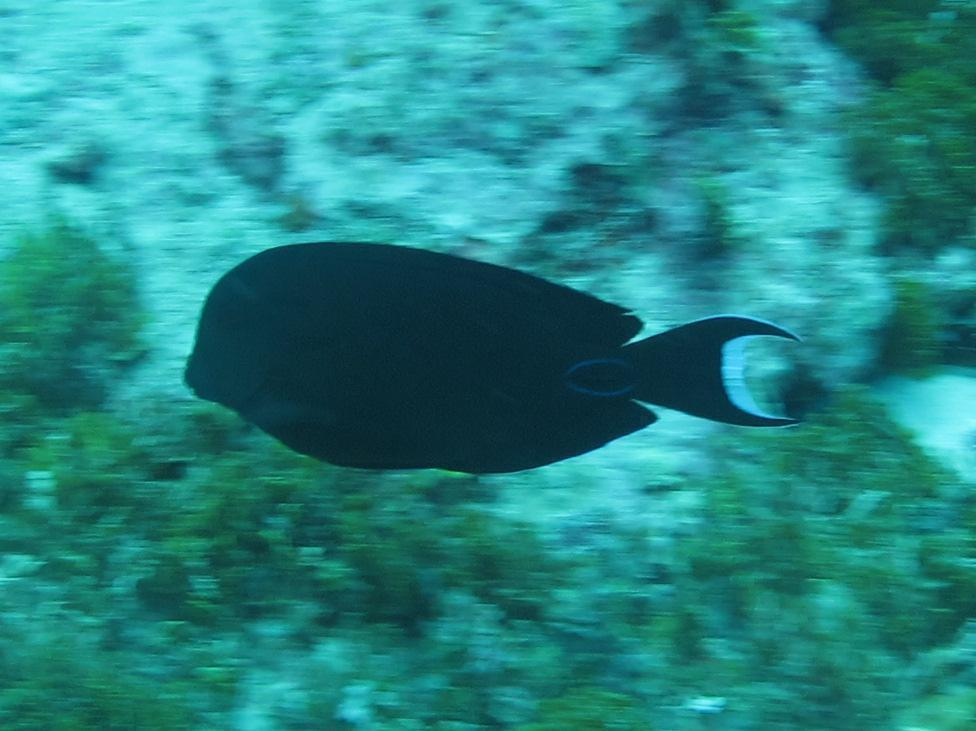Fish: (98, 186, 869, 582)
